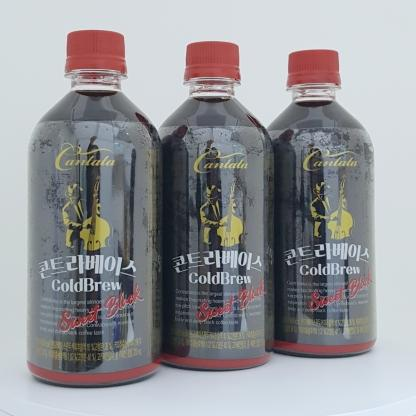-------------------500ML: (27, 29, 162, 388), (154, 40, 274, 372), (260, 47, 377, 359)
